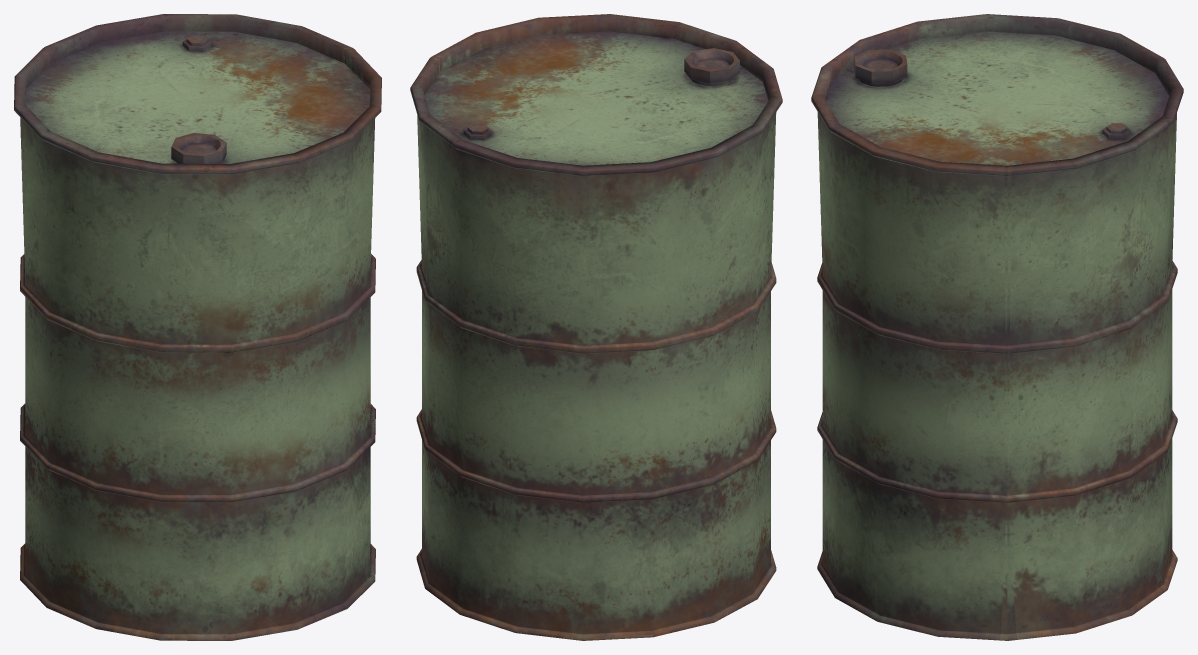
Rendered from bardir.gltf.
3 renders of one model, left to right at view 1: azimuth 30°, elevation 25°; view 2: azimuth 150°, elevation 25°; view 3: azimuth 270°, elevation 25°, orthographic.
Parts seen in each view (by area): view 1: Barril11; view 2: Barril11; view 3: Barril11.
Part boxes in pixels (x1,y1,x2,y2): Barril11: (14,14,381,640); Barril11: (410,14,782,640); Barril11: (811,14,1183,640).
Bounding box in the file's own units: 0.8407 × 1.19 × 0.8407.
Materials: 1 (1 with a texture image).
